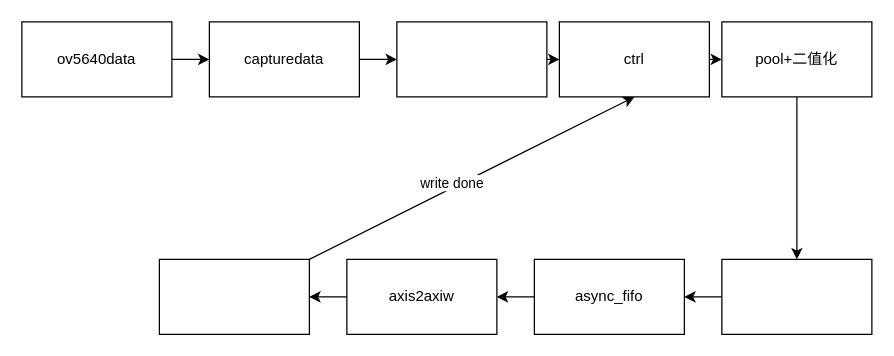
This 894x356 diagram has some shape labels left out. The shapes that lost their labels are listed below. From the top down, each one's centre as x and y in pixels, then its label:
At point 471,59: "graydata(19200个int8)".
At point 233,296: "crossbar".
At point 796,296: "int32打包".
